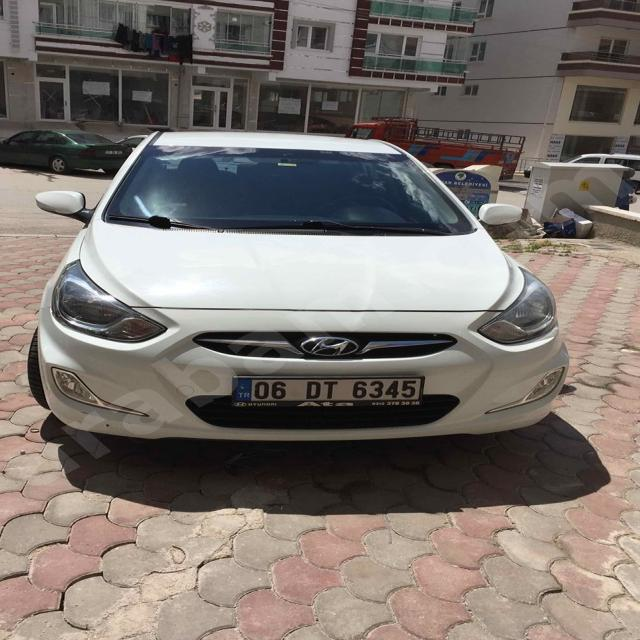license_plate: (234, 376, 424, 402)
